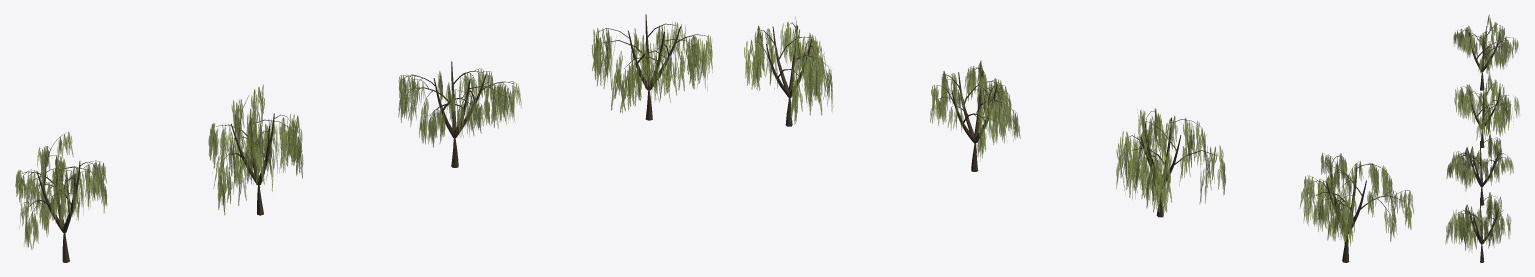
Rendered from tree_willow.glb.
3 renders of one model, left to right at view 1: azimuth 30°, elevation 25°; view 2: azimuth 150°, elevation 25°; view 3: azimuth 270°, elevation 25°, orthographic. The views are drawn at different scales.
Parts seen in each view (by area): view 1: v0_lo_leaf, v1_lo_leaf, v0_hi_leaf, v1_hi_leaf, v1_hi_bark, v0_hi_bark, v1_lo_bark, v0_lo_bark; view 2: v0_lo_leaf, v0_hi_leaf, v1_lo_leaf, v1_hi_leaf, v1_hi_bark, v0_hi_bark, v1_lo_bark, v0_lo_bark; view 3: v0_lo_leaf, v1_lo_leaf, v0_hi_leaf, v1_hi_leaf, v1_hi_bark, v0_hi_bark, v1_lo_bark, v0_lo_bark.
Boxes of the visible parts, x1,y1,x2,y2 form: v0_lo_leaf: [208, 84, 303, 215]; v1_lo_leaf: [592, 22, 712, 113]; v0_hi_leaf: [15, 132, 107, 250]; v1_hi_leaf: [398, 69, 521, 147]; v1_hi_bark: [400, 61, 517, 167]; v0_hi_bark: [18, 133, 104, 262]; v1_lo_bark: [596, 14, 707, 120]; v0_lo_bark: [216, 95, 291, 215]; v0_lo_leaf: [1116, 108, 1225, 217]; v0_hi_leaf: [1299, 153, 1414, 245]; v1_lo_leaf: [744, 17, 833, 124]; v1_hi_leaf: [930, 60, 1020, 160]; v1_hi_bark: [933, 61, 1017, 171]; v0_hi_bark: [1305, 153, 1409, 262]; v1_lo_bark: [756, 22, 828, 126]; v0_lo_bark: [1128, 111, 1217, 217]; v0_lo_leaf: [1454, 72, 1519, 140]; v1_lo_leaf: [1445, 192, 1511, 252]; v0_hi_leaf: [1453, 14, 1518, 73]; v1_hi_leaf: [1446, 135, 1513, 191]; v1_hi_bark: [1449, 137, 1510, 205]; v0_hi_bark: [1460, 19, 1515, 90]; v1_lo_bark: [1454, 195, 1503, 262]; v0_lo_bark: [1460, 82, 1508, 147].
Bounding box in the file's own units: 71.52 × 11.71 × 11.27.
Materials: 2 (2 with a texture image).
